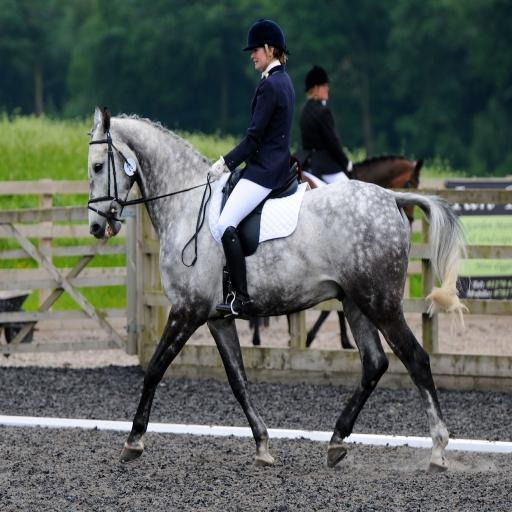Horse: (86, 105, 472, 468), (246, 151, 426, 347)
